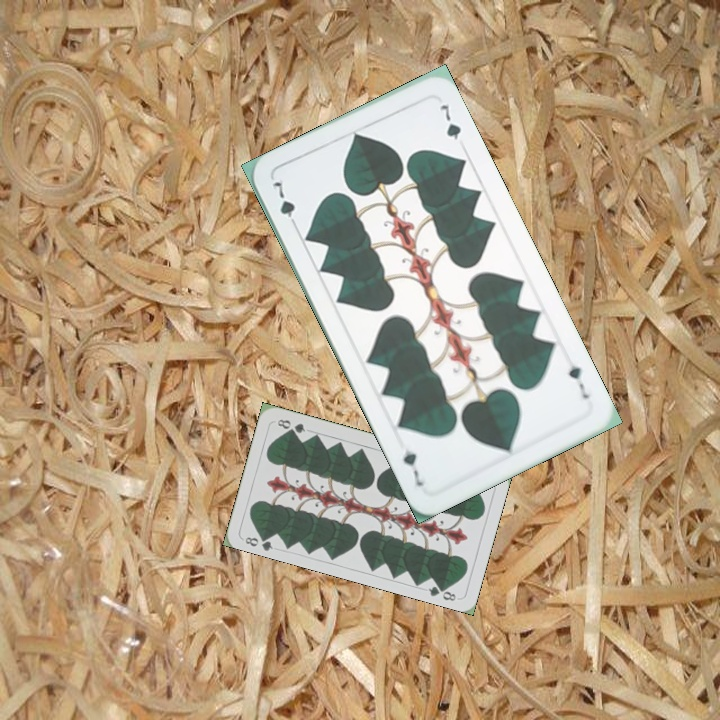G7: (268, 177, 300, 231), (564, 361, 593, 401)
G8: (241, 530, 275, 553)
